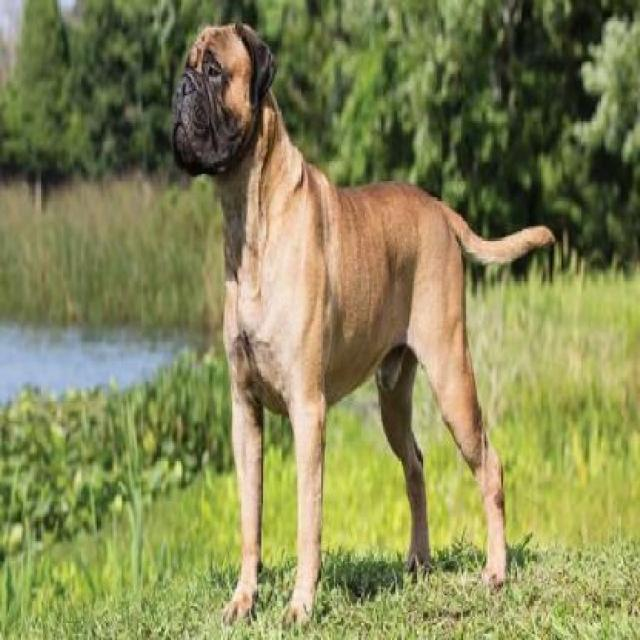animals: (166, 10, 520, 619)
